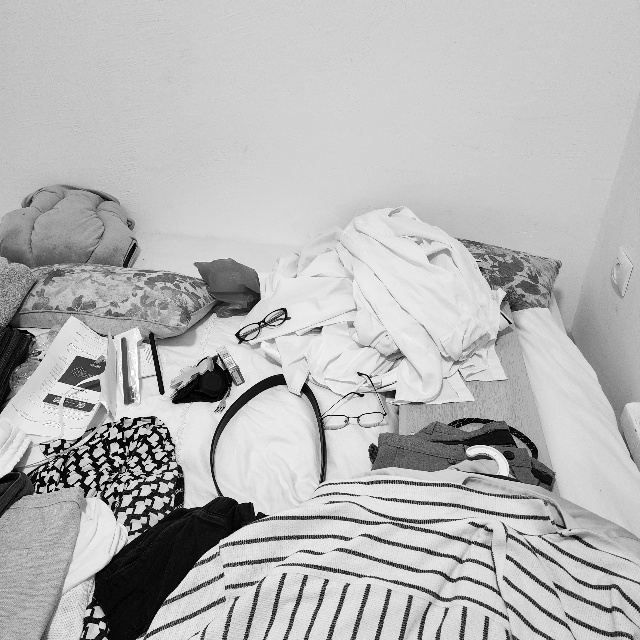glasses: (317, 370, 389, 432), (233, 305, 295, 343)
